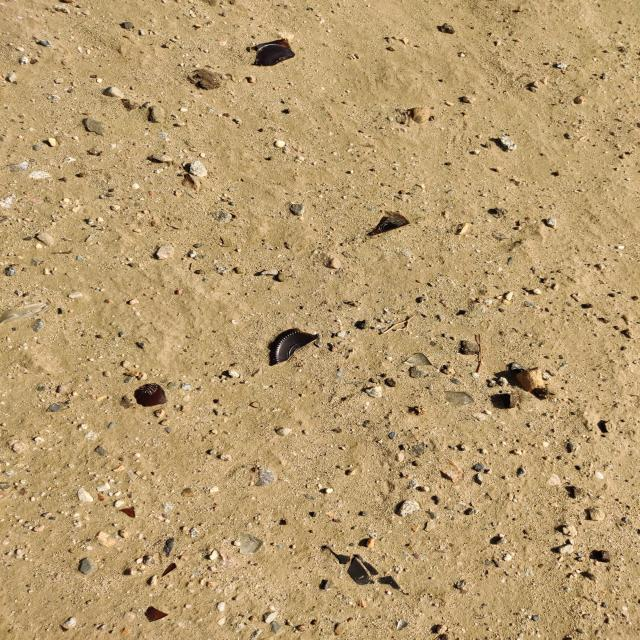litter: (217, 24, 314, 128), (251, 320, 330, 384), (356, 205, 429, 253), (116, 369, 185, 418), (125, 592, 181, 629)
